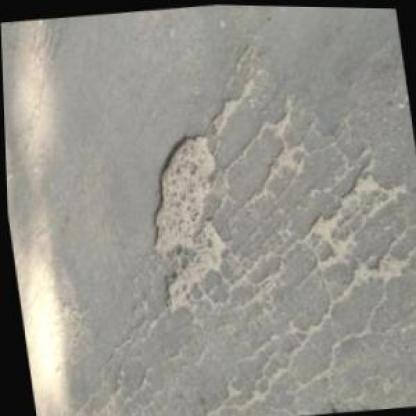pothole: (134, 125, 238, 313)
